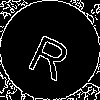R: (25, 25, 78, 82)
